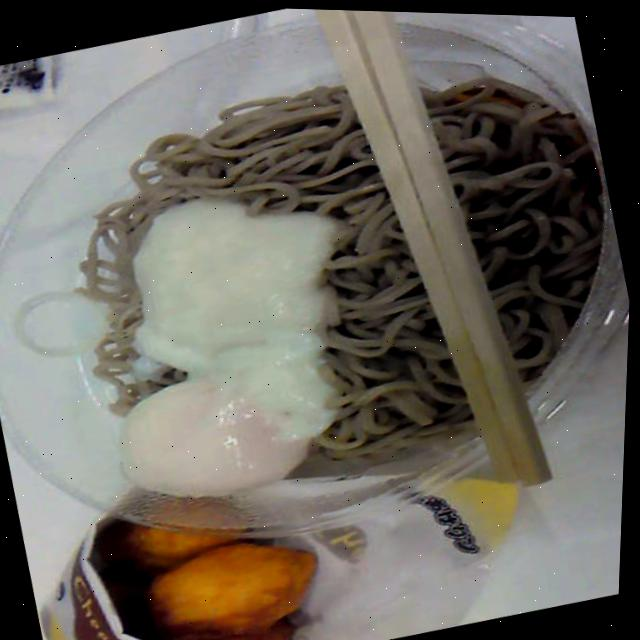面条主食: (0, 0, 640, 590)
鸡肉料理 含炸鸡: (68, 449, 345, 640)
